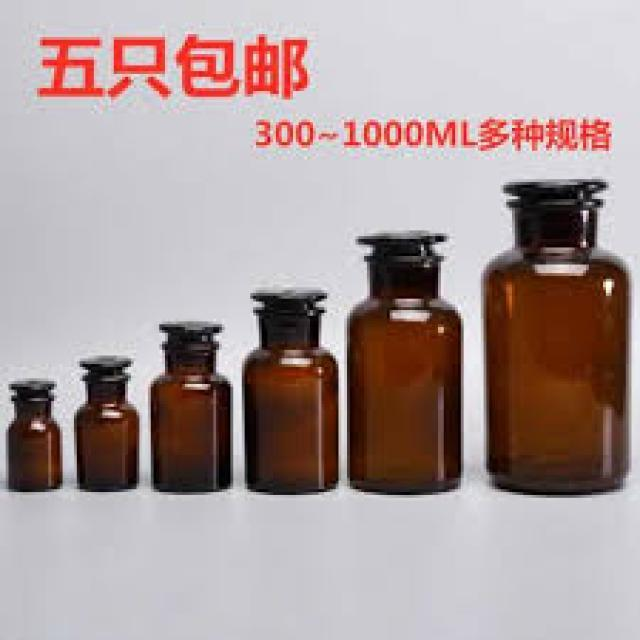Glass: (480, 199, 631, 502), (348, 257, 464, 495), (242, 310, 340, 498), (150, 338, 232, 494), (74, 372, 140, 495), (5, 392, 64, 493)
